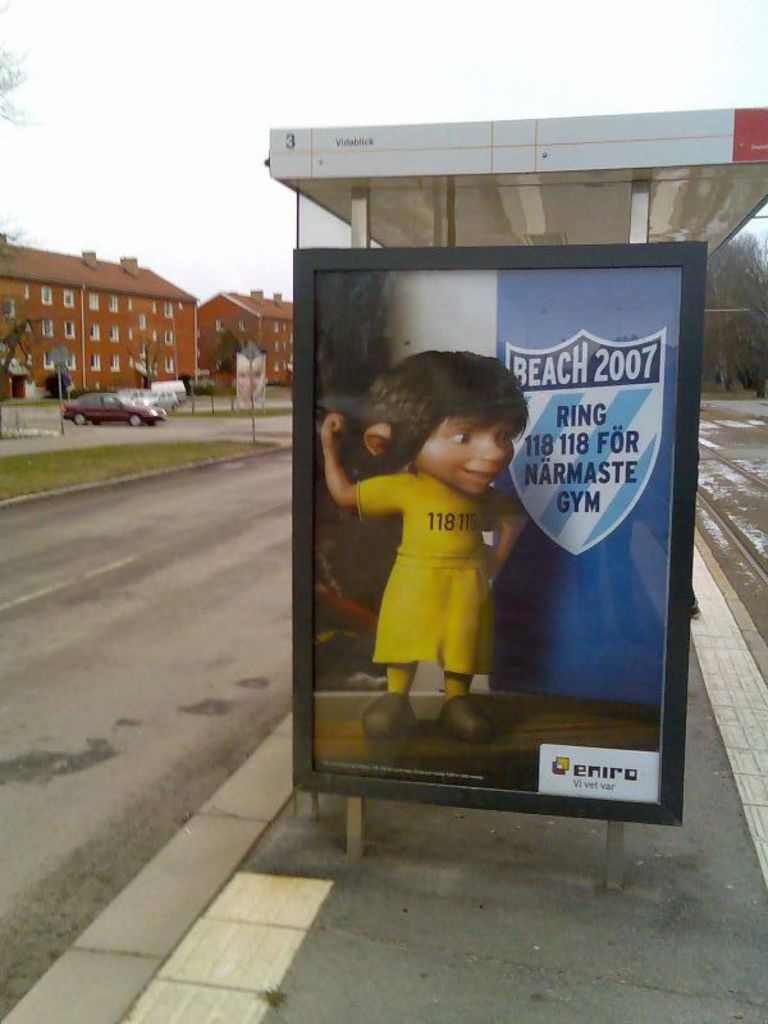face: (425, 392, 516, 497)
